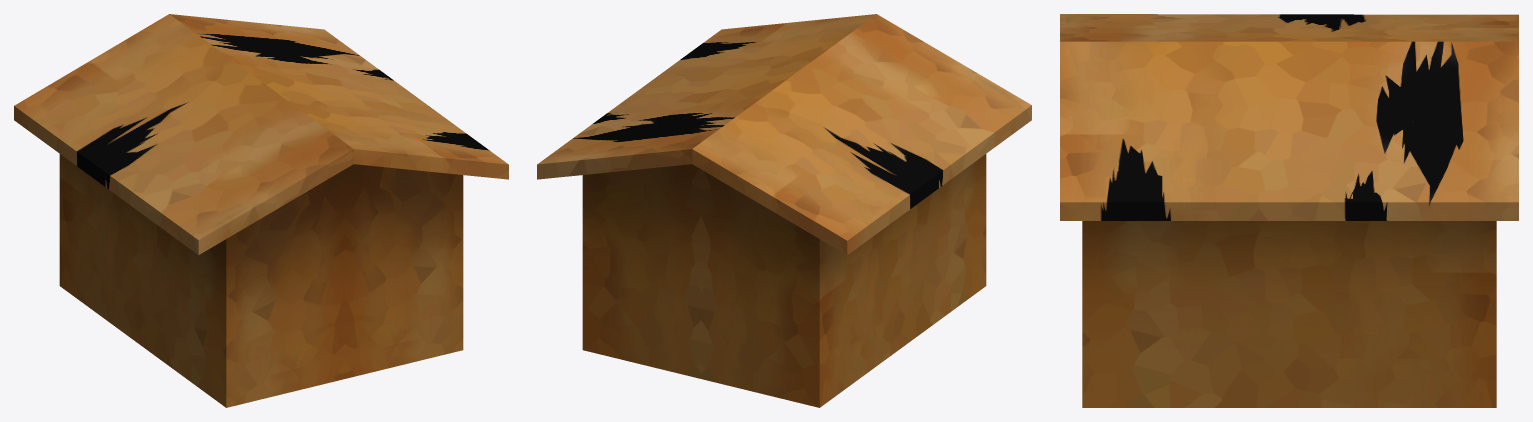
File: hut.fbx
3 renders of one model, left to right at view 1: azimuth 30°, elevation 25°; view 2: azimuth 150°, elevation 25°; view 3: azimuth 270°, elevation 25°, orthographic. The views are drawn at different scales.
Parts seen in each view (by area): view 1: polySurface14; view 2: polySurface14; view 3: polySurface14.
Boxes of the visible parts, x1,y1,x2,y2 form: polySurface14: [14, 14, 508, 407]; polySurface14: [537, 14, 1031, 407]; polySurface14: [1060, 14, 1518, 407].
Size of the model in its own units: 13.22 by 9.63 by 13.62.
